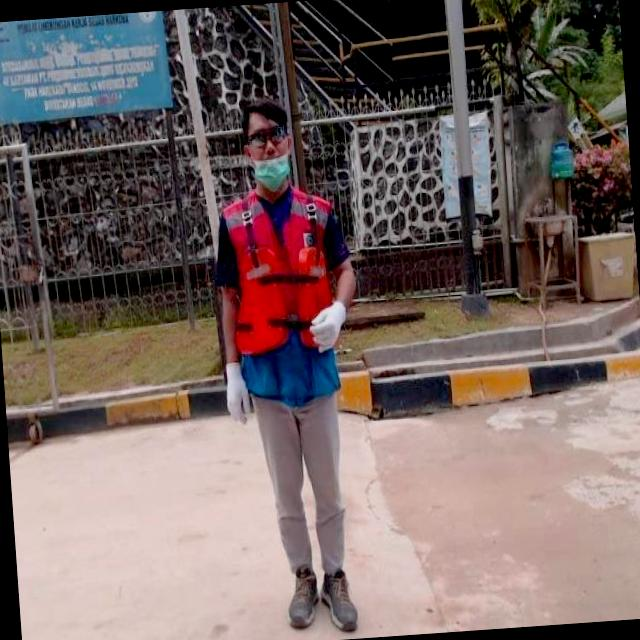vest: (218, 186, 345, 407)
